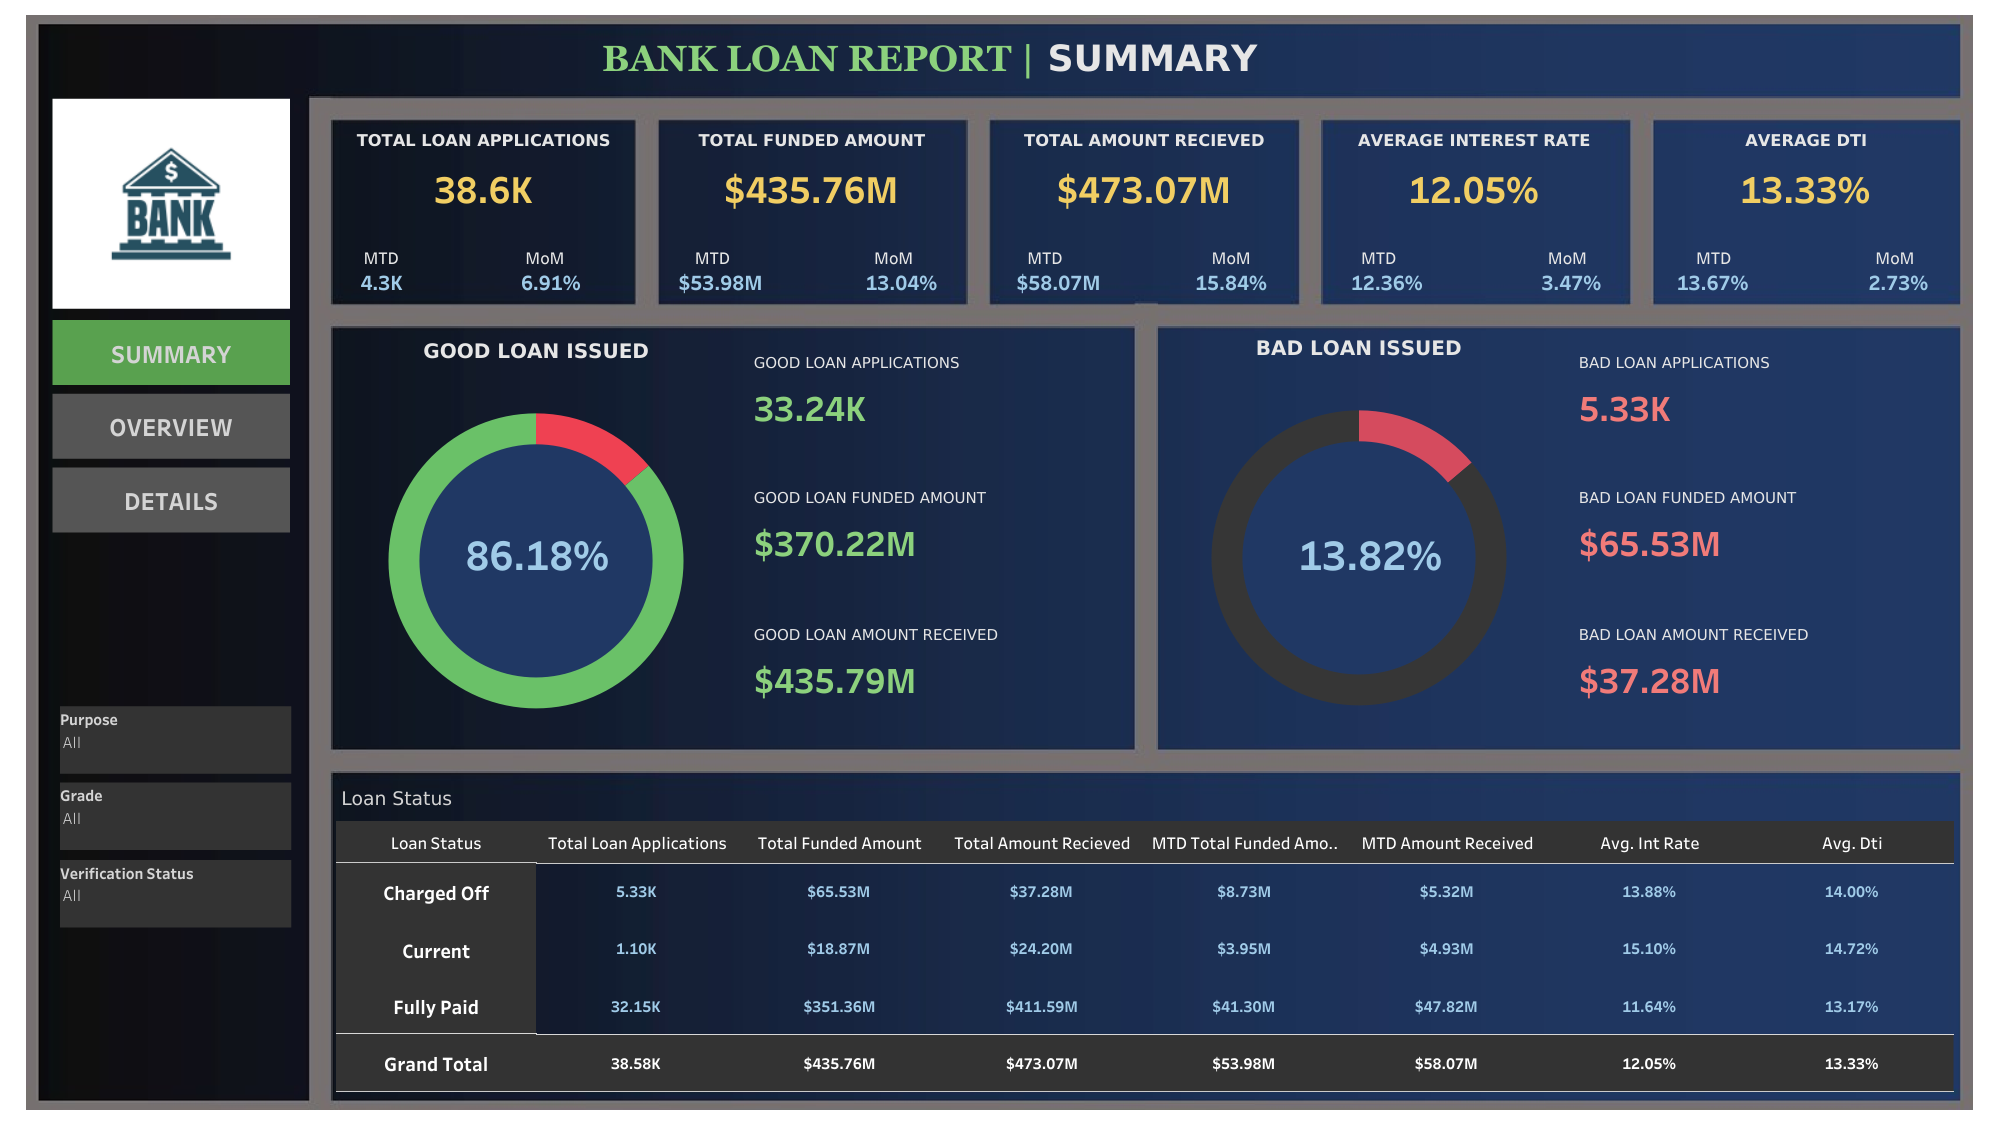

What the dashboard file says about the page in this screenshot:
{"tool":"tableau","page":{"name":"SUMMARY","canvas":[1600,900],"ordinal":2},"visuals":[{"type":"text","box":[479,4,706,86]},{"type":"image","param":"D:/Tableau Projects/Bank loan Report/Tableau Background 1.jpg","box":[8,8,1584,884]},{"type":"image","param":"C:/Users/SHASHA~1/AppData/Local/Temp/TableauTemp/1jf74ib07juoi0147l8sb0ssamoo/Sh","box":[42,46,190,235]},{"type":"worksheet","title":"Total Loan Applications","mark":"Automatic","box":[270,98,234,147]},{"type":"worksheet","title":"Total Funded Amount","mark":"Automatic","box":[527,98,245,144]},{"type":"worksheet","title":"Total Amount Recieved","mark":"Automatic","box":[794,98,243,145]},{"type":"worksheet","title":"Average Interest Rate ","mark":"Automatic","box":[1057,98,245,145]},{"type":"worksheet","title":"Average Debt To Income Ratio","mark":"Automatic","box":[1324,98,242,149]},{"type":"text","box":[255,190,100,30]},{"type":"text","box":[386,190,100,30]},{"type":"text","box":[520,190,100,30]},{"type":"text","box":[665,190,100,30]},{"type":"text","box":[786,190,100,30]},{"type":"text","box":[935,190,100,30]},{"type":"text","box":[1053,190,100,30]},{"type":"text","box":[1204,190,100,30]},{"type":"text","box":[1321,190,100,30]},{"type":"text","box":[1466,190,100,30]},{"type":"worksheet","title":"MTD Total Loan Applications","mark":"Automatic","box":[270,204,70,44]},{"type":"worksheet","title":"MoM Total Applications","mark":"Automatic","box":[401,204,81,44]},{"type":"worksheet","title":"MTD Total Funded Amount","mark":"Automatic","box":[525,204,104,44]},{"type":"worksheet","title":"MoM Total Funded Amount","mark":"Automatic","box":[674,204,95,44]},{"type":"worksheet","title":"MTD Total Amount Received","mark":"Automatic","box":[795,204,104,44]},{"type":"worksheet","title":"MoM Total Amount Received","mark":"Automatic","box":[935,204,100,44]},{"type":"worksheet","title":"MTD Average Interest Rate","mark":"Automatic","box":[1065,204,90,44]},{"type":"worksheet","title":"MoM Average Interest Rate","mark":"Automatic","box":[1207,204,100,44]},{"type":"worksheet","title":"MTD Debt to Income Ratio","mark":"Automatic","box":[1318,204,105,44]},{"type":"worksheet","title":"MoM Average Debt to Income Ratio","mark":"Automatic","box":[1469,204,100,44]},{"type":"dashboard-object","box":[42,256,190,52]},{"type":"worksheet","title":"BAD LOAN ISSUED","mark":"Pie","rows":["Calculation_275282576520032257","Calculation_275282576520032257"],"box":[927,263,320,333]},{"type":"worksheet","title":"GOOD LOAN ISSUED","mark":"Pie","rows":["Calculation_275282576520032257","Calculation_275282576520032257"],"box":[269,265,320,333]},{"type":"worksheet","title":"Good Loan Applications","mark":"Automatic","box":[595,272,300,100]},{"type":"worksheet","title":"Bad Loan Applications ","mark":"Automatic","box":[1255,272,300,100]},{"type":"dashboard-object","box":[42,315,190,52]},{"type":"dashboard-object","box":[42,374,190,52]},{"type":"worksheet","title":"Good Loan Funded Amount","mark":"Automatic","box":[595,380,300,100]},{"type":"worksheet","title":"Bad Loan Funded Amount","mark":"Automatic","box":[1255,380,300,100]},{"type":"worksheet","title":"GOOD LOAN APPLICATION %","mark":"Automatic","box":[350,421,160,80]},{"type":"worksheet","title":"BAD LOAN APPLICATION % ","mark":"Automatic","box":[1017,421,160,80]},{"type":"worksheet","title":"Good Loan Amount Recieved","mark":"Automatic","box":[595,490,300,100]},{"type":"worksheet","title":"Bad Loan Amount Recieved","mark":"Automatic","box":[1255,490,300,100]},{"type":"filter","title":"GOOD LOAN ISSUED","param":"[federated.1sg2grt0dcenkg16ob9ce0p8toyc].[none:purpose:nk]","box":[48,565,185,54]},{"type":"worksheet","title":"Loan Status","mark":"Automatic","rows":["loan_status"],"box":[269,624,1295,250]},{"type":"filter","title":"GOOD LOAN ISSUED","param":"[federated.1sg2grt0dcenkg16ob9ce0p8toyc].[none:grade:nk]","box":[48,626,185,54]},{"type":"filter","title":"GOOD LOAN ISSUED","param":"[federated.1sg2grt0dcenkg16ob9ce0p8toyc].[none:verification_status:nk]","box":[48,688,185,54]}]}

Visuals, with their boxes in screenshot pixels (x1, y1, x2, y2), scaled from the page's 1600x900 canvas onto the 1999x1124 screenshot:
text: rect(598, 5, 1481, 112)
image: rect(10, 10, 1989, 1114)
image: rect(52, 57, 290, 351)
"Total Loan Applications" worksheet: rect(337, 122, 630, 306)
"Total Funded Amount" worksheet: rect(658, 122, 965, 302)
"Total Amount Recieved" worksheet: rect(992, 122, 1296, 303)
"Average Interest Rate " worksheet: rect(1321, 122, 1627, 303)
"Average Debt To Income Ratio" worksheet: rect(1654, 122, 1957, 308)
text: rect(319, 237, 444, 275)
text: rect(482, 237, 607, 275)
text: rect(650, 237, 775, 275)
text: rect(831, 237, 956, 275)
text: rect(982, 237, 1107, 275)
text: rect(1168, 237, 1293, 275)
text: rect(1316, 237, 1441, 275)
text: rect(1504, 237, 1629, 275)
text: rect(1650, 237, 1775, 275)
text: rect(1832, 237, 1957, 275)
"MTD Total Loan Applications" worksheet: rect(337, 255, 425, 310)
"MoM Total Applications" worksheet: rect(501, 255, 602, 310)
"MTD Total Funded Amount" worksheet: rect(656, 255, 786, 310)
"MoM Total Funded Amount" worksheet: rect(842, 255, 961, 310)
"MTD Total Amount Received" worksheet: rect(993, 255, 1123, 310)
"MoM Total Amount Received" worksheet: rect(1168, 255, 1293, 310)
"MTD Average Interest Rate" worksheet: rect(1331, 255, 1443, 310)
"MoM Average Interest Rate" worksheet: rect(1508, 255, 1633, 310)
"MTD Debt to Income Ratio" worksheet: rect(1647, 255, 1778, 310)
"MoM Average Debt to Income Ratio" worksheet: rect(1835, 255, 1960, 310)
dashboard-object: rect(52, 320, 290, 385)
"BAD LOAN ISSUED" worksheet (Pie marks): rect(1158, 328, 1558, 744)
"GOOD LOAN ISSUED" worksheet (Pie marks): rect(336, 331, 736, 747)
"Good Loan Applications" worksheet: rect(743, 340, 1118, 465)
"Bad Loan Applications " worksheet: rect(1568, 340, 1943, 465)
dashboard-object: rect(52, 393, 290, 458)
dashboard-object: rect(52, 467, 290, 532)
"Good Loan Funded Amount" worksheet: rect(743, 475, 1118, 599)
"Bad Loan Funded Amount" worksheet: rect(1568, 475, 1943, 599)
"GOOD LOAN APPLICATION %" worksheet: rect(437, 526, 637, 626)
"BAD LOAN APPLICATION % " worksheet: rect(1271, 526, 1471, 626)
"Good Loan Amount Recieved" worksheet: rect(743, 612, 1118, 737)
"Bad Loan Amount Recieved" worksheet: rect(1568, 612, 1943, 737)
"GOOD LOAN ISSUED" filter: rect(60, 706, 291, 773)
"Loan Status" worksheet: rect(336, 779, 1954, 1092)
"GOOD LOAN ISSUED" filter: rect(60, 782, 291, 849)
"GOOD LOAN ISSUED" filter: rect(60, 859, 291, 927)
